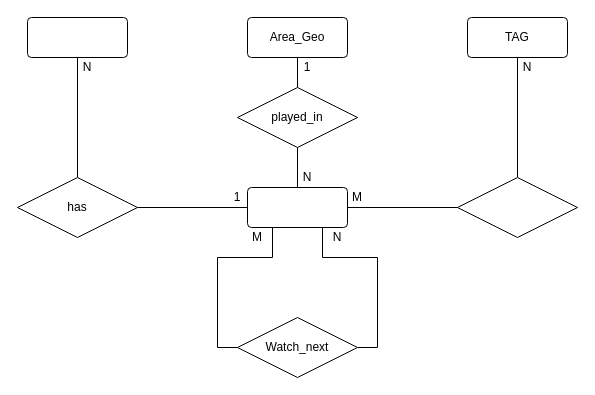
The diagram is 595 pixels wide and 395 high, and some of its shapes have lost their labels. Each missing label, with the centre of its shape:
"has_a" belongs at (517,207).
"TEDX_TALK" belongs at (297,207).
"Vote" belongs at (77,37).
